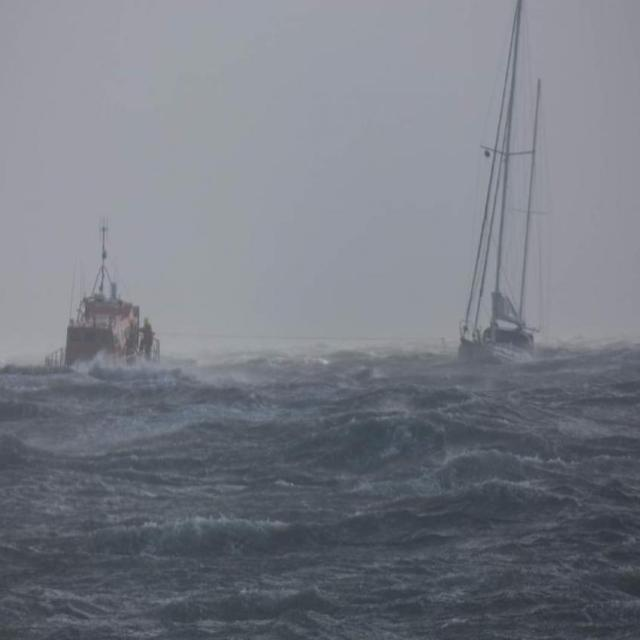fishing boat: (437, 12, 549, 369), (49, 226, 161, 380)
